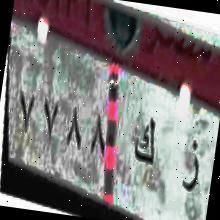7: (12, 84, 38, 140), (36, 92, 62, 144)
8: (62, 100, 86, 158), (86, 109, 110, 164)
kaaf: (131, 111, 164, 173)
zay: (178, 134, 204, 199)
